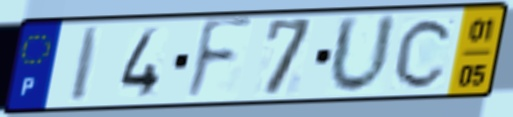4: (116, 26, 164, 100)
7: (263, 17, 315, 100)
C: (391, 15, 457, 91)
F: (181, 14, 256, 106)
I: (67, 24, 106, 105)
U: (325, 11, 400, 98)
